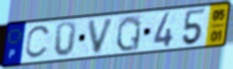0: (53, 21, 78, 59)
4: (152, 11, 175, 49)
5: (180, 7, 206, 47)
C: (23, 24, 52, 61)
Q: (114, 15, 143, 53)
V: (87, 16, 117, 56)
